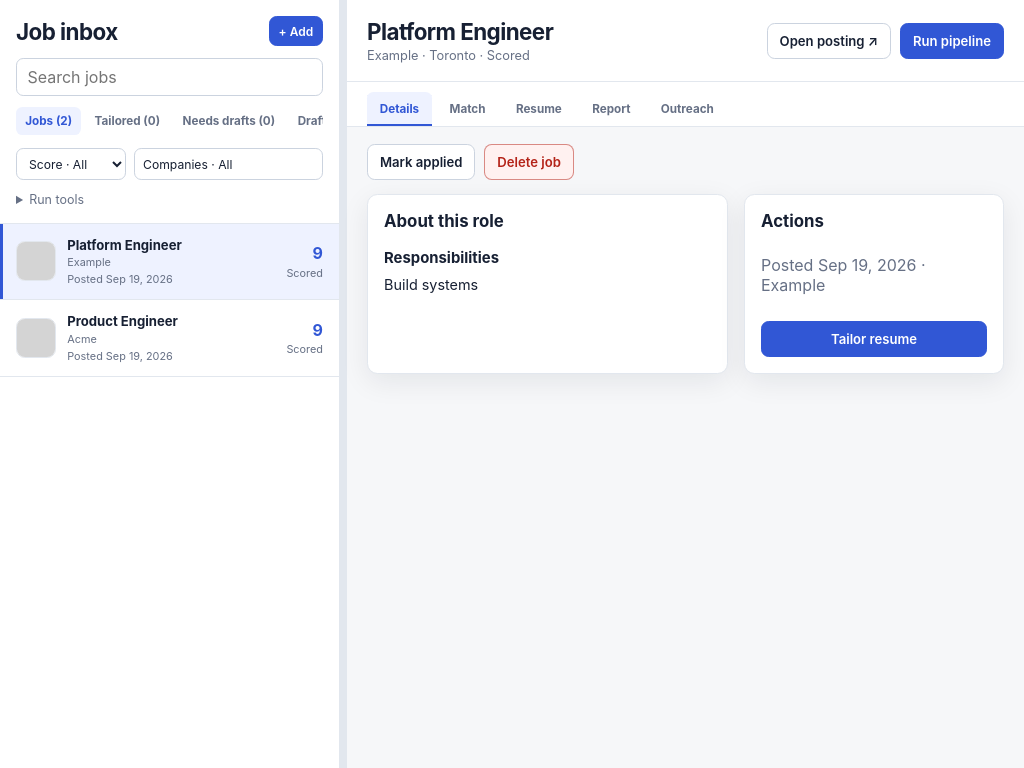
JobsPage › selects all companies by default and allows individual companies to be excluded
Step 1. Click the heading "Companies · All" → (228, 164), box [134, 148, 323, 180]
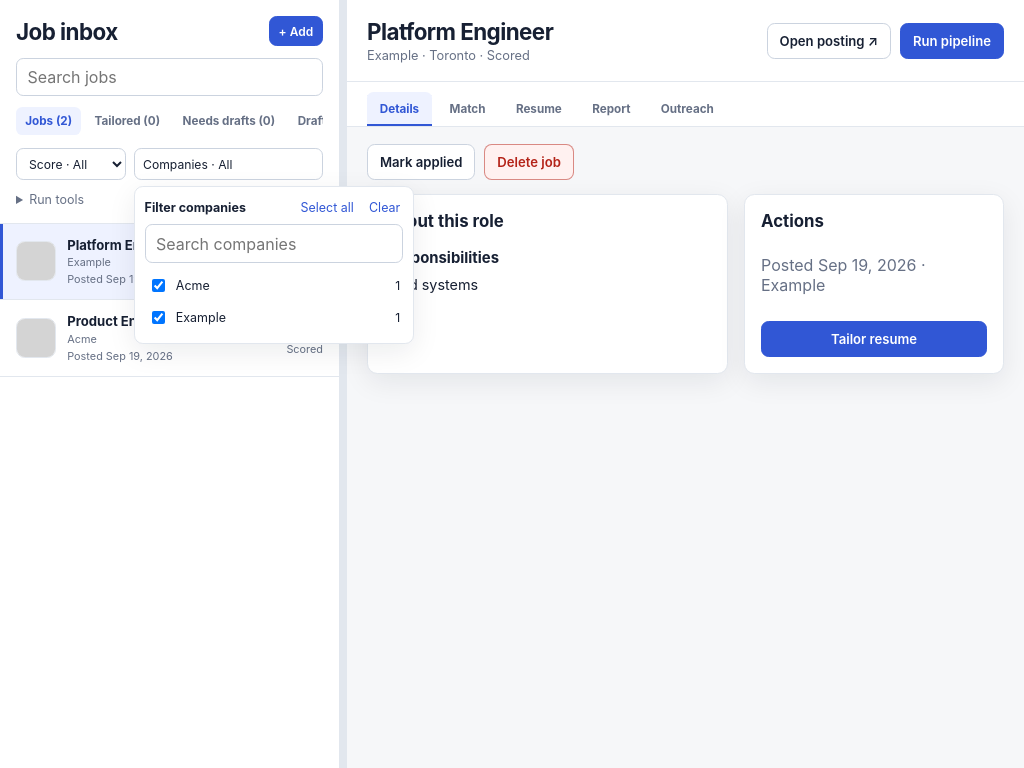
Expected: the checkbox labelled "Acme 1" is checked
Expected: the checkbox labelled "Example 1" is checked, [152, 310, 165, 324]
Step 2. Click the checkbox labelled "Acme 1" → (158, 285), box [152, 279, 165, 292]
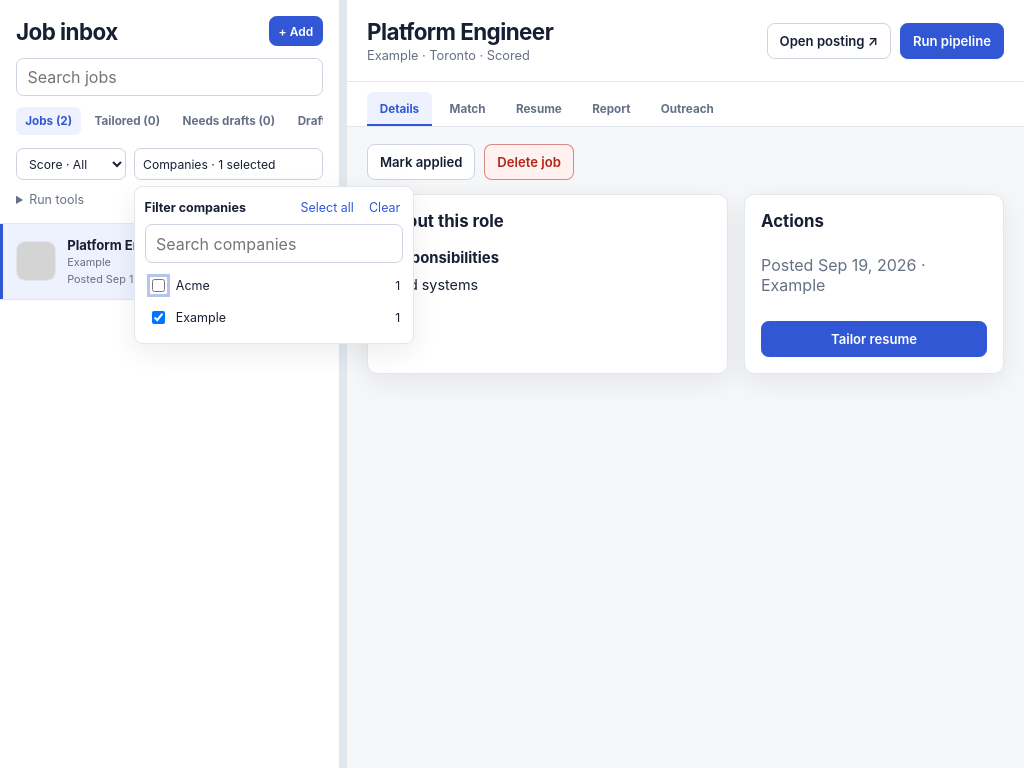
Expected: the text "Platform Engineer" is shown, [67, 237, 182, 253]
Expected: the button "Product Engineer" is gone
Step 3. Click the button "Select all" → (327, 207), box [297, 197, 357, 218]
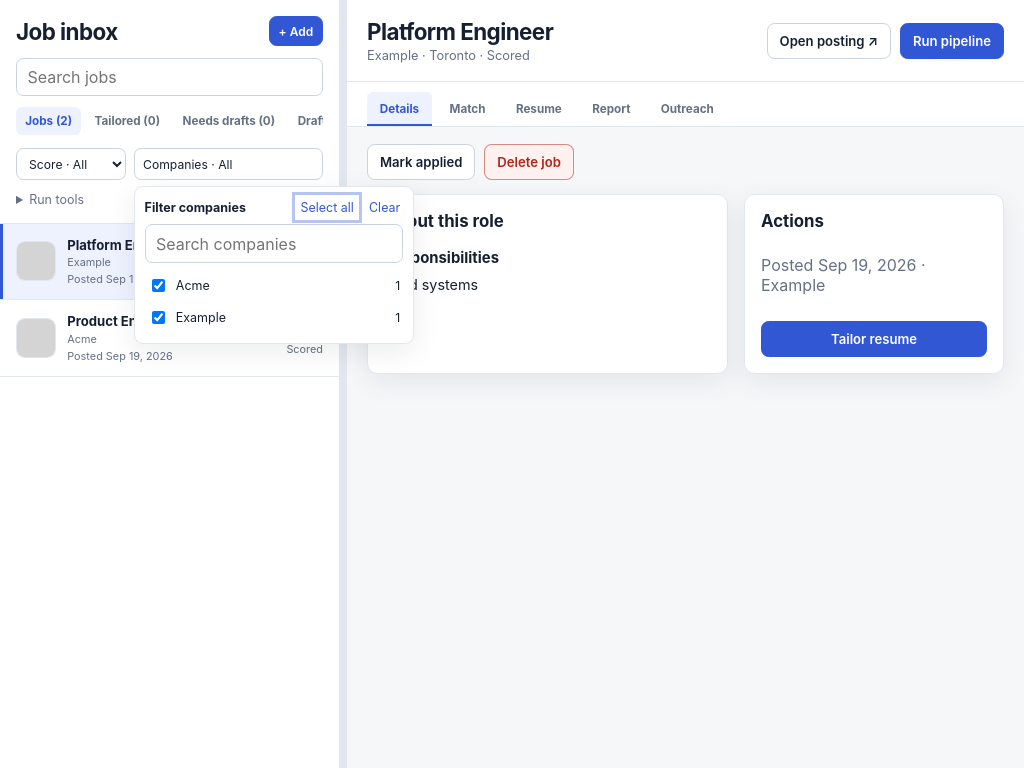
Expected: the text "Product Engineer" is shown, [67, 313, 178, 329]
Step 4. Click the button "Clear" → (385, 207), box [366, 197, 403, 218]
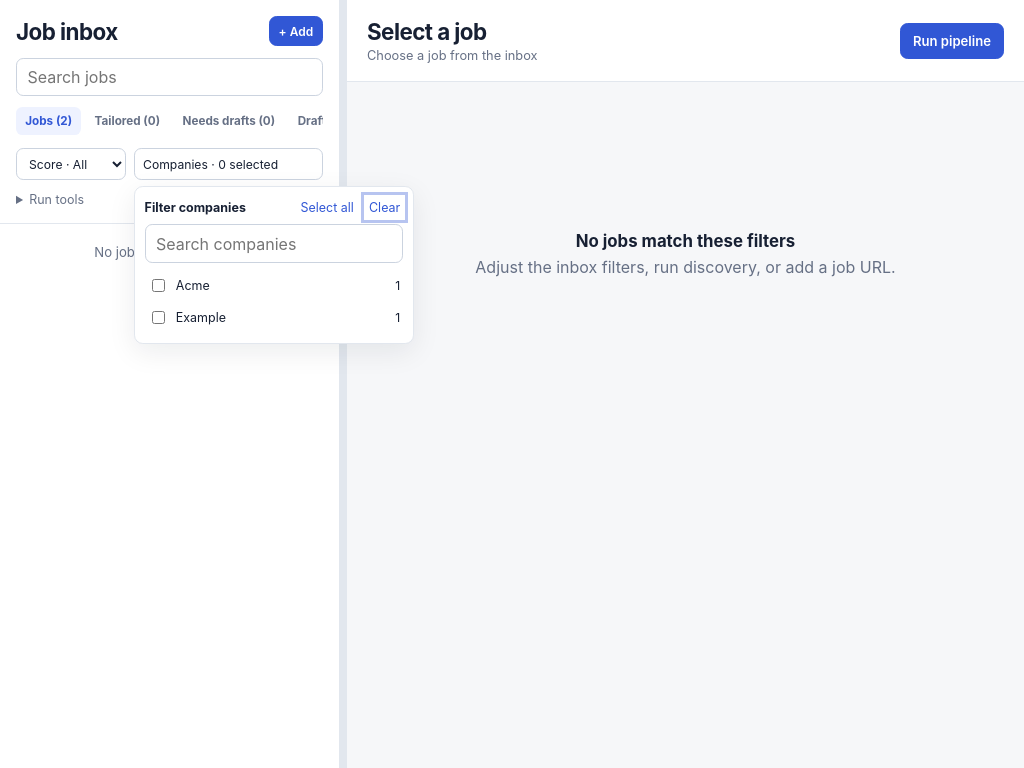
Expected: the text "No jobs match this view." is shown, [94, 244, 245, 260]
